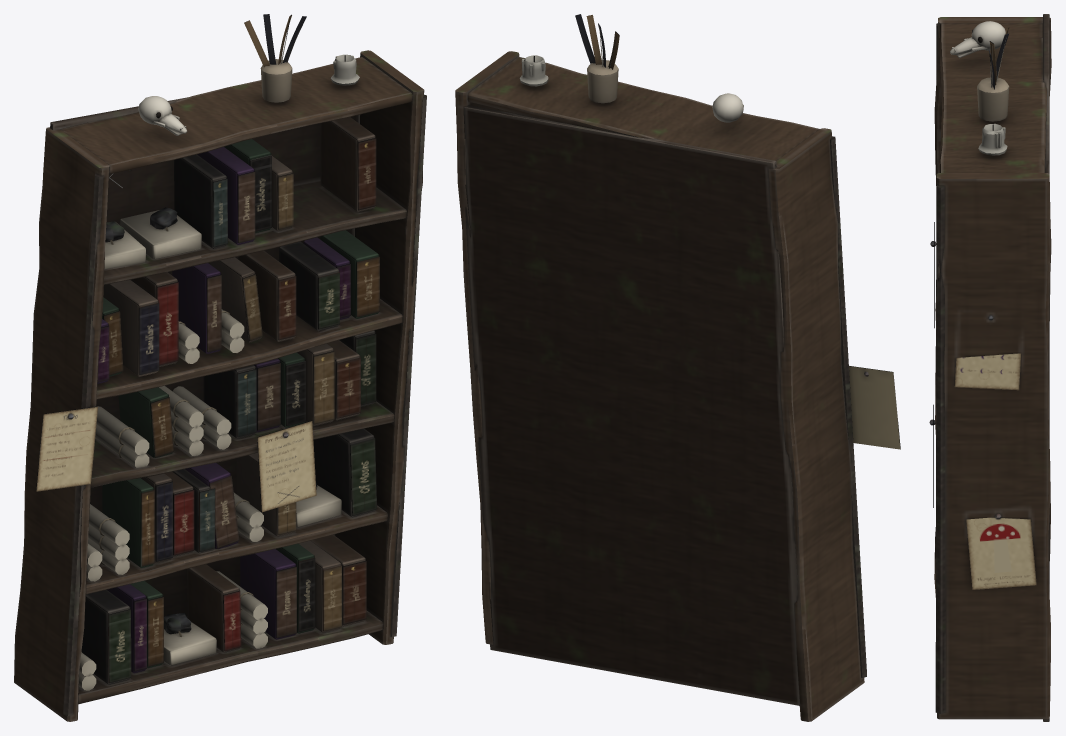
Rendered from SpellNoteShelf.fbx.
3 renders of one model, left to right at view 1: azimuth 30°, elevation 25°; view 2: azimuth 150°, elevation 25°; view 3: azimuth 270°, elevation 25°, orthographic. The views are drawn at different scales.
Visible parts, largest first — view 1: SpellNoteShelf; view 2: SpellNoteShelf; view 3: SpellNoteShelf.
Boxes of the visible parts, x1,y1,x2,y2 form: SpellNoteShelf: [14, 14, 426, 721]; SpellNoteShelf: [455, 14, 900, 721]; SpellNoteShelf: [929, 14, 1051, 721].
Size of the model in its own units: 574 by 882 by 151.
